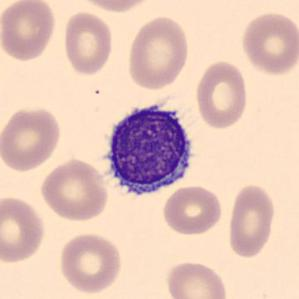Lymphocyte: (96, 94, 200, 205)
RBC: (125, 14, 191, 92), (38, 156, 111, 224), (0, 104, 64, 173), (57, 231, 124, 295), (225, 182, 278, 260), (193, 58, 250, 130), (238, 9, 298, 76), (0, 0, 58, 63), (61, 9, 114, 76), (160, 183, 224, 237), (0, 194, 47, 264), (163, 258, 230, 299), (74, 0, 155, 14)
